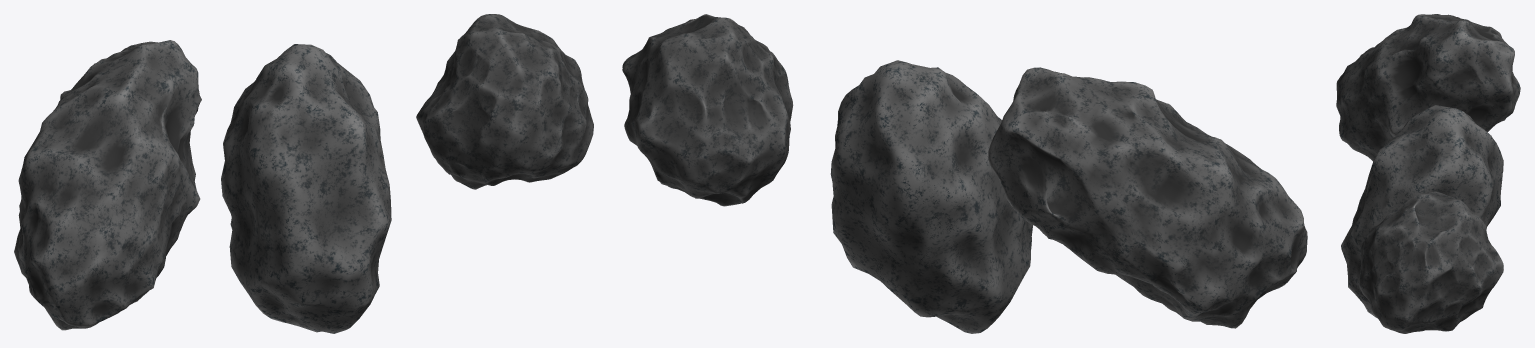
3 renders of one model, left to right at view 1: azimuth 30°, elevation 25°; view 2: azimuth 150°, elevation 25°; view 3: azimuth 270°, elevation 25°, orthographic. The views are drawn at different scales.
Parts seen in each view (by area): view 1: pedra3_2, Pedra1_0, Pedra2_1; view 2: pedra3_2, Pedra1_0, Pedra2_1; view 3: pedra3_2, Pedra2_1, Pedra1_0.
Boxes of the visible parts, left/top/right/bottom form: pedra3_2: left=14, top=40, right=201, bottom=330; Pedra1_0: left=221, top=44, right=391, bottom=333; Pedra2_1: left=416, top=14, right=593, bottom=189; pedra3_2: left=988, top=67, right=1307, bottom=328; Pedra1_0: left=830, top=60, right=1032, bottom=333; Pedra2_1: left=622, top=14, right=793, bottom=206; pedra3_2: left=1336, top=14, right=1520, bottom=161; Pedra2_1: left=1358, top=191, right=1503, bottom=333; Pedra1_0: left=1341, top=105, right=1503, bottom=317.
Bounding box in the file's own units: 14.08 × 6.67 × 4.66.
Materials: 3 (3 with a texture image).
